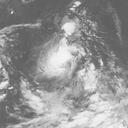cyclone: (36, 37, 86, 82)
